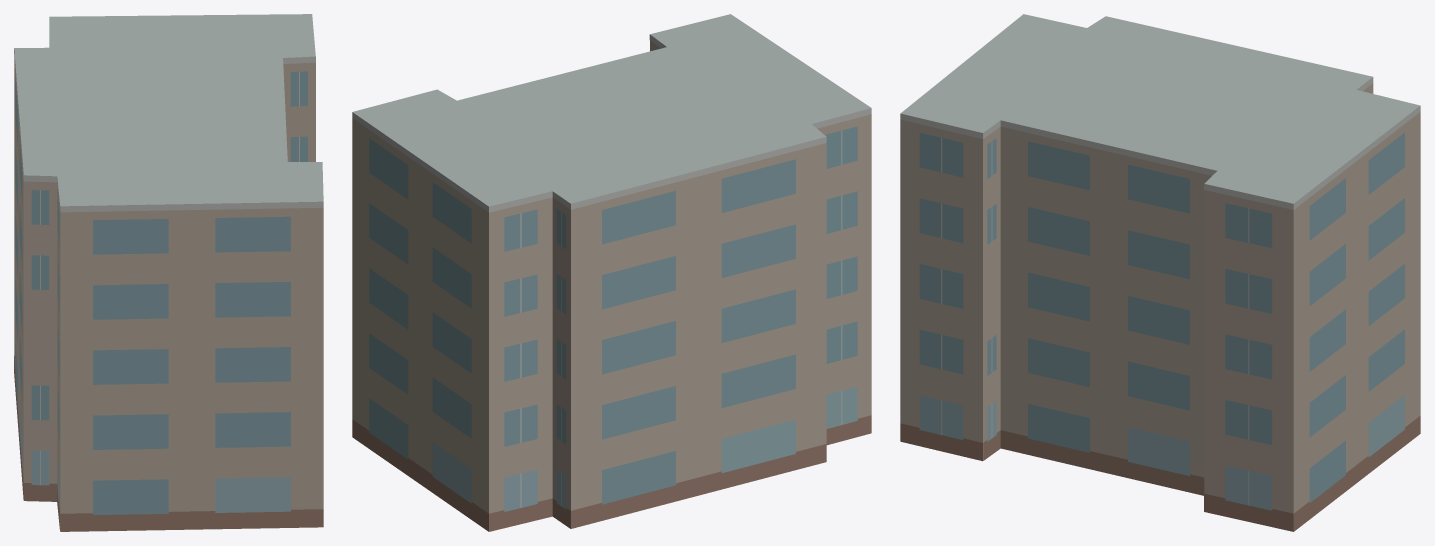
Rendered from survey-upis-32756367.glb.
The picture shows the model from 3 angles, left to right: view 1: azimuth 30°, elevation 25°; view 2: azimuth 150°, elevation 25°; view 3: azimuth 270°, elevation 25°; orthographic projection.
Visible parts, largest first — view 1: survey-upis-32756367.tmp; view 2: survey-upis-32756367.tmp; view 3: survey-upis-32756367.tmp.
Part boxes in pixels (x1,y1,x2,y2): survey-upis-32756367.tmp: (14,14,323,531); survey-upis-32756367.tmp: (352,14,871,531); survey-upis-32756367.tmp: (900,14,1420,531).
Size of the model in its own units: 16.26 by 13.1 by 18.84.
